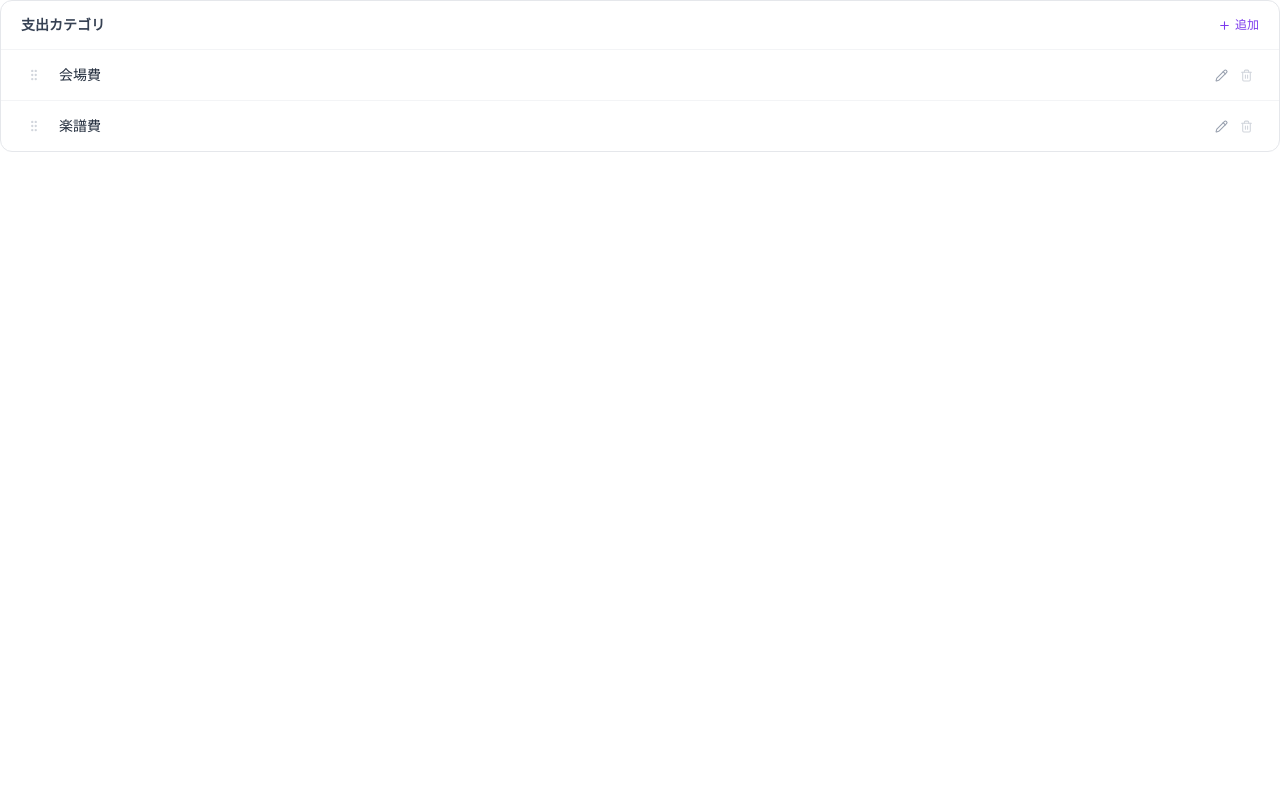
Test: ExpenseCategoryCard（編集・削除） › 削除して409エラー時はAPIの理由を確認ダイアログの中に表示する
Click the button named "会場費を削除". click: (1246, 75)
box: [1234,62,1259,88]
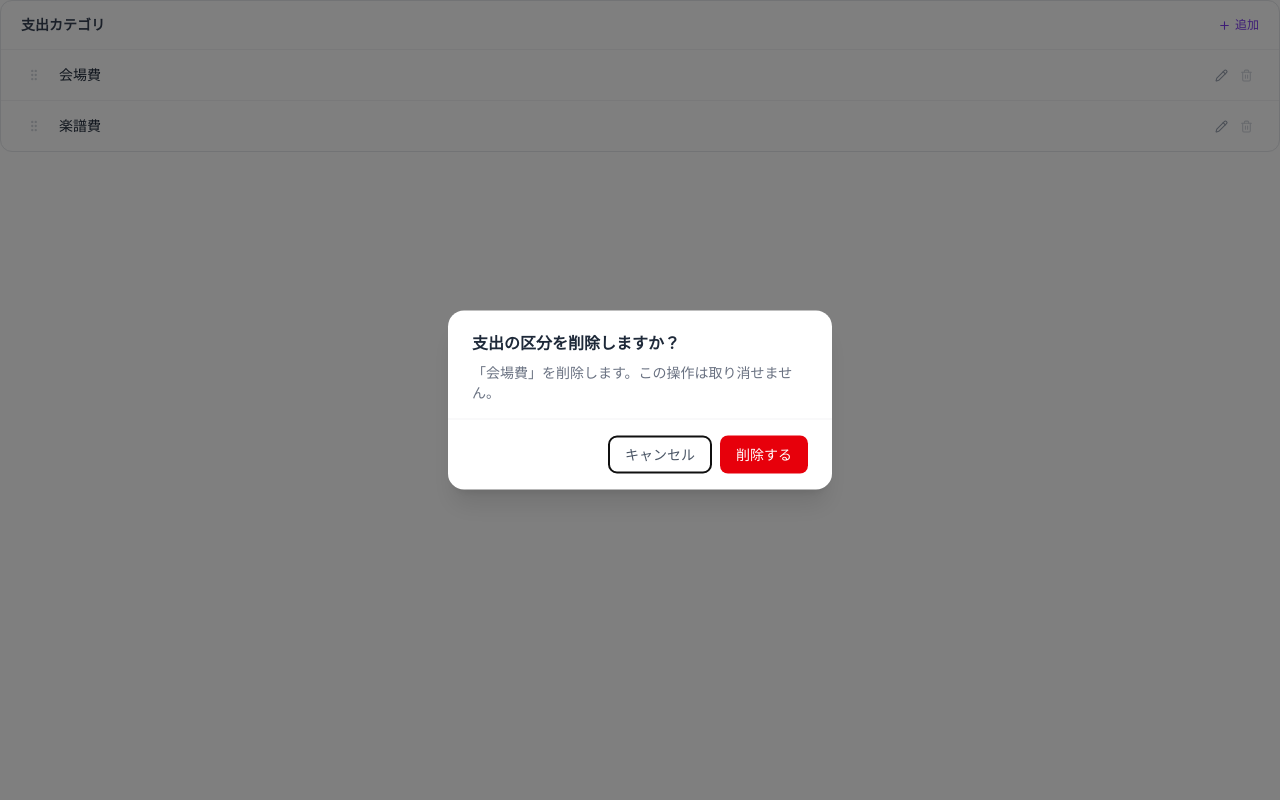
Click the button "削除する". click: (764, 454)
box: [720,436,808,474]
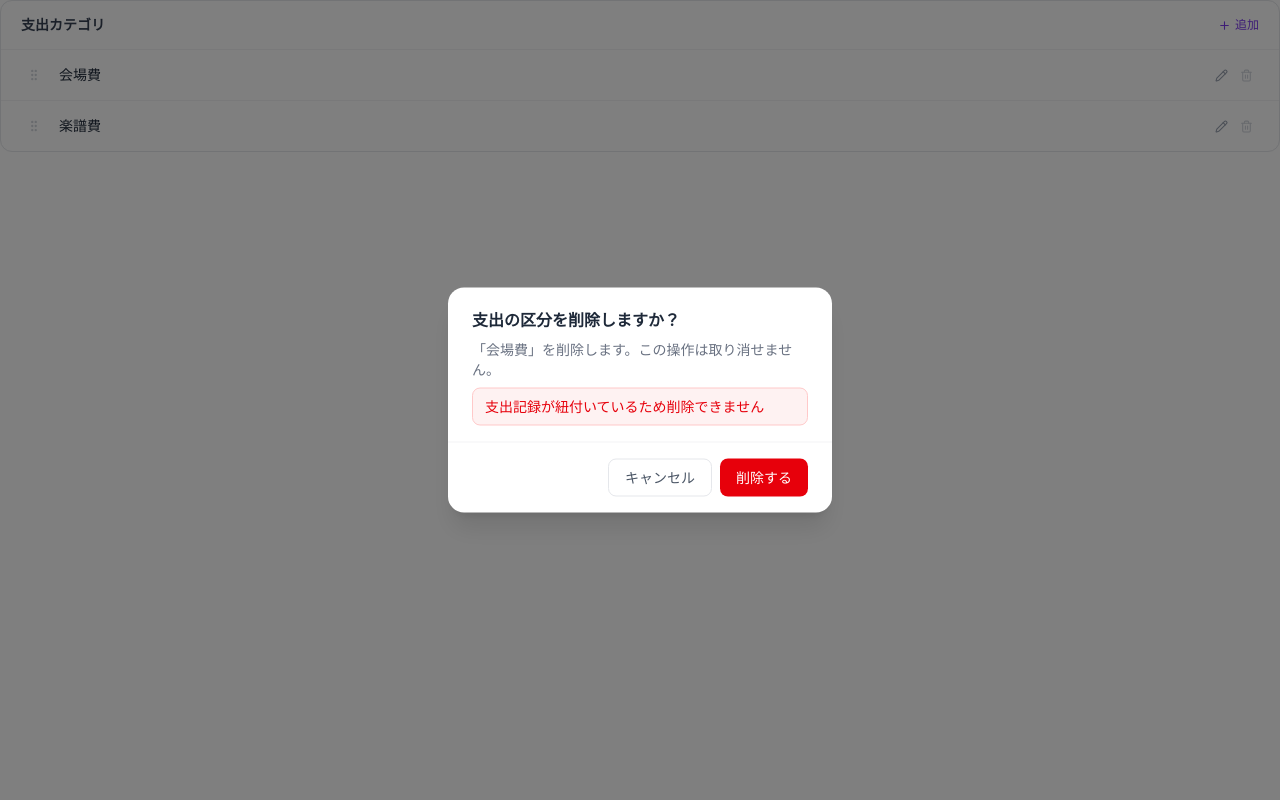
Now the message reads "支出記録が紐付いているため削除できません", box [485,398,764,414]
Now the number of messages is 1, box [472,388,808,426]
